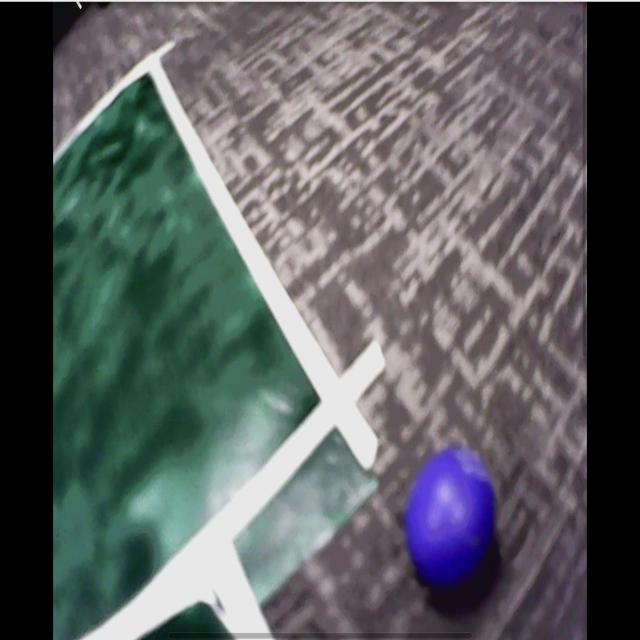ball: (405, 449, 496, 591)
